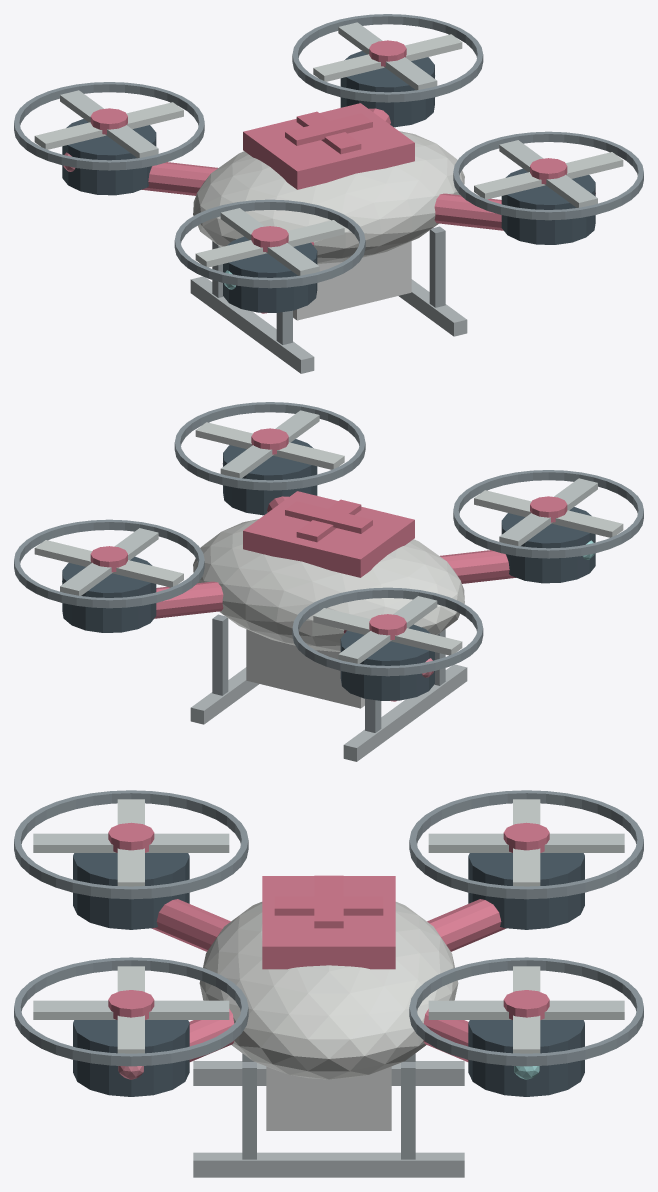
Rendered from medical.glb.
3 renders of one model, top to bottom at view 1: azimuth 30°, elevation 25°; view 2: azimuth 150°, elevation 25°; view 3: azimuth 270°, elevation 25°, orthographic. The views are drawn at different scales.
Parts seen in each view (by area): view 1: medical_body, medical_topdeck, medical_case, rotor_guard_3, rotor_guard_1, rotor_guard_0, rotor_guard_2, motor_0, motor_1, motor_2, motor_3, landing_skid_-1 (+19 smaller); view 2: medical_body, medical_topdeck, medical_case, rotor_guard_0, rotor_guard_2, rotor_guard_3, rotor_guard_1, motor_3, motor_2, motor_1, motor_0, landing_skid_-1 (+19 smaller); view 3: medical_body, medical_topdeck, medical_case, landing_skid_1, rotor_guard_0, rotor_guard_3, rotor_guard_1, rotor_guard_2, motor_0, motor_3, motor_1, motor_2 (+21 smaller).
Part boxes in pixels (box(x1,y1,x2,y2)): medical_body: box(193, 131, 464, 264); medical_topdeck: box(243, 103, 414, 189); medical_case: box(293, 241, 411, 320); rotor_guard_3: box(292, 14, 483, 102); rotor_guard_1: box(174, 199, 365, 288); rotor_guard_0: box(453, 131, 643, 220); rotor_guard_2: box(14, 82, 204, 170); motor_0: box(501, 168, 595, 244); motor_1: box(223, 236, 317, 312); motor_2: box(62, 119, 156, 195); motor_3: box(340, 51, 434, 127); landing_skid_-1: box(190, 276, 314, 373); medical_body: box(193, 519, 464, 652); medical_topdeck: box(243, 491, 414, 577); medical_case: box(246, 629, 364, 708); rotor_guard_0: box(174, 402, 365, 490); rotor_guard_2: box(292, 587, 483, 676); rotor_guard_3: box(14, 519, 204, 608); rotor_guard_1: box(453, 470, 643, 558); motor_3: box(62, 556, 156, 632); motor_2: box(340, 624, 434, 700); motor_1: box(501, 507, 595, 583); motor_0: box(223, 439, 317, 515); landing_skid_-1: box(343, 664, 467, 761); medical_body: box(199, 902, 458, 1079); medical_topdeck: box(262, 876, 395, 969); medical_case: box(266, 1066, 391, 1130); landing_skid_1: box(193, 1152, 464, 1177); rotor_guard_0: box(14, 957, 248, 1066); rotor_guard_3: box(409, 957, 643, 1066); rotor_guard_1: box(14, 790, 248, 899); rotor_guard_2: box(409, 790, 643, 899); motor_0: box(73, 1020, 189, 1096); motor_3: box(468, 1020, 584, 1096); motor_1: box(73, 853, 189, 929); motor_2: box(468, 853, 584, 929).
Size of the model in its own units: 1.58 by 0.6368 by 1.58.
